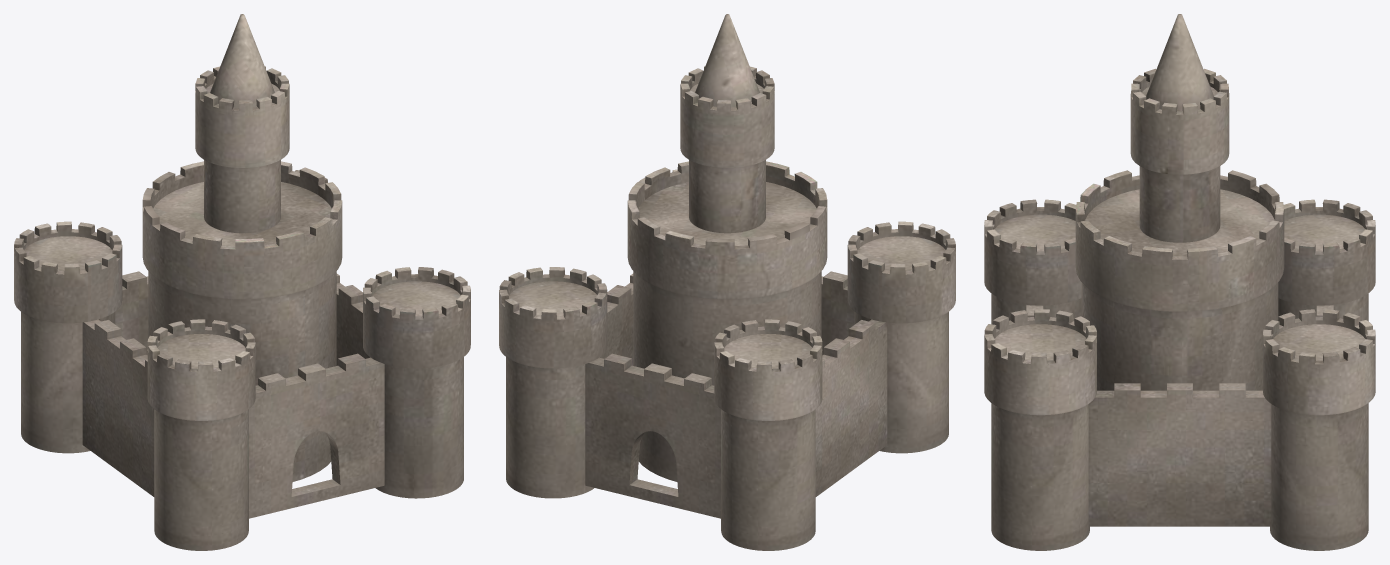
File: castle.glb
3 renders of one model, left to right at view 1: azimuth 30°, elevation 25°; view 2: azimuth 150°, elevation 25°; view 3: azimuth 270°, elevation 25°, orthographic. The views are drawn at different scales.
Visible parts, largest first — view 1: Cube_sand castle_0; view 2: Cube_sand castle_0; view 3: Cube_sand castle_0.
Boxes of the visible parts, left/top/right/bottom form: Cube_sand castle_0: left=14, top=14, right=470, bottom=550; Cube_sand castle_0: left=499, top=14, right=955, bottom=550; Cube_sand castle_0: left=984, top=14, right=1375, bottom=550.
Bounding box in the file's own units: 1 × 1.37 × 1.05.
1 material, 1 textured.
